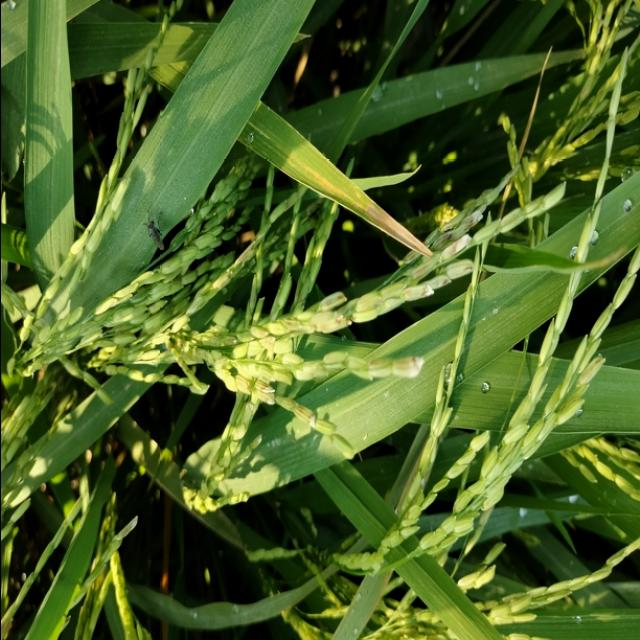healthy: (342, 178, 444, 264)
